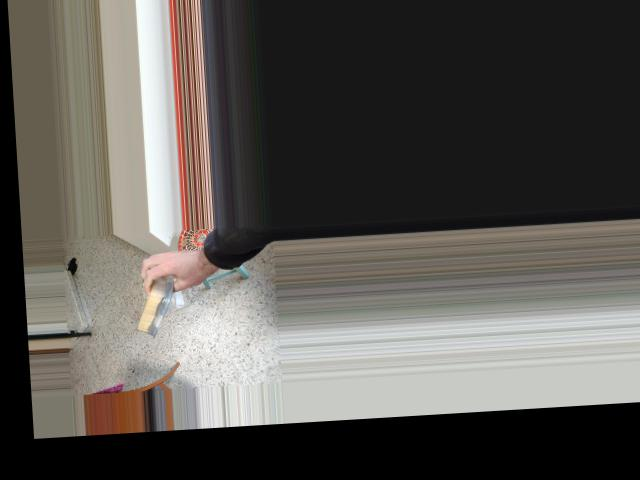cheese: (111, 243, 193, 343)
